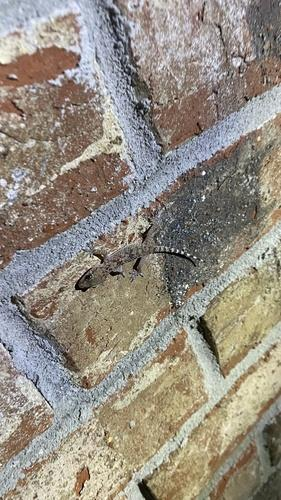lizard: (69, 209, 203, 299)
